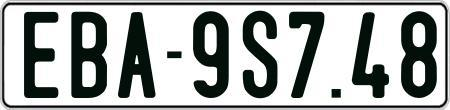4: (349, 10, 389, 100)
7: (288, 10, 324, 99)
8: (401, 10, 436, 98)
9: (191, 8, 231, 97)
A: (118, 12, 160, 104)
B: (69, 11, 109, 102)
E: (21, 9, 56, 101)
S: (241, 11, 279, 103)
